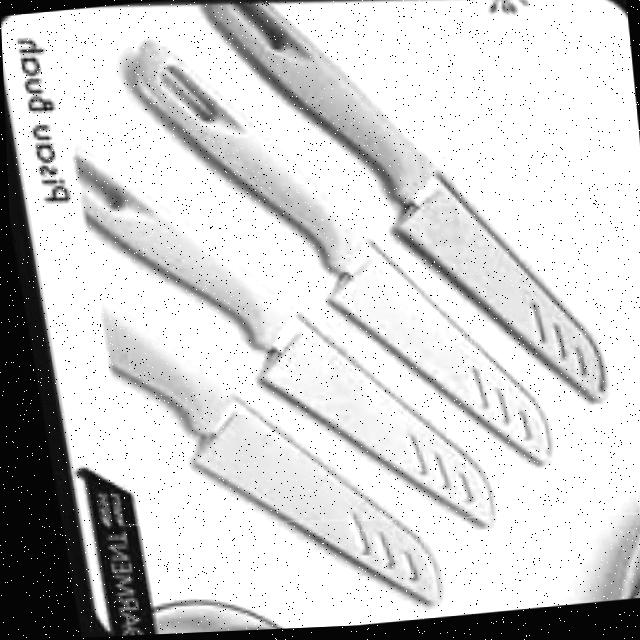knife: (123, 6, 547, 502), (70, 110, 495, 568), (198, 0, 604, 441), (62, 264, 439, 638)
